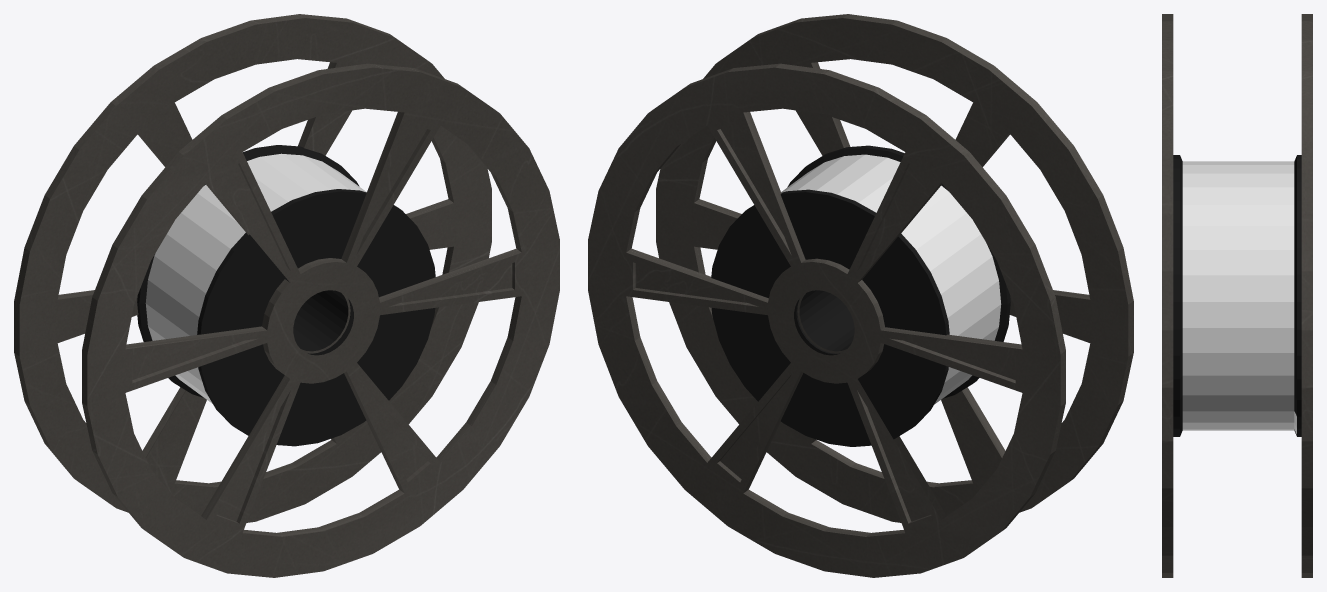
Rendered from movieroll4.glb.
3 views of the same model, side by side, from view 1: azimuth 30°, elevation 25°; view 2: azimuth 150°, elevation 25°; view 3: azimuth 270°, elevation 25° (orthographic). The views are drawn at different scales.
Visible parts, largest first — view 1: Cylinder.001, Cylinder; view 2: Cylinder.001, Cylinder; view 3: Cylinder, Cylinder.001.
Boxes of the visible parts, bbox=[...] form: Cylinder.001: bbox=[14, 14, 559, 577]; Cylinder: bbox=[137, 145, 435, 446]; Cylinder.001: bbox=[588, 14, 1133, 577]; Cylinder: bbox=[711, 145, 1010, 446]; Cylinder: bbox=[1173, 155, 1301, 436]; Cylinder.001: bbox=[1162, 14, 1312, 577].
Size of the model in its own units: 1.99 by 2 by 0.5346.
Materials: 3 (1 with a texture image).
